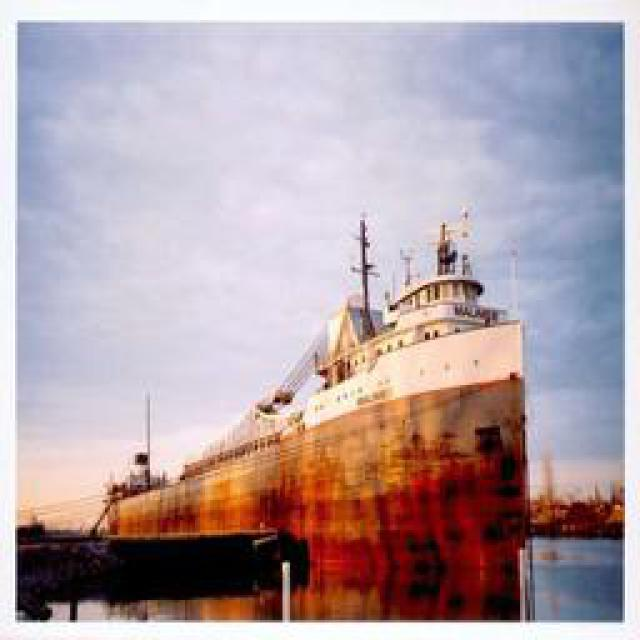Ship: (72, 189, 530, 629)
